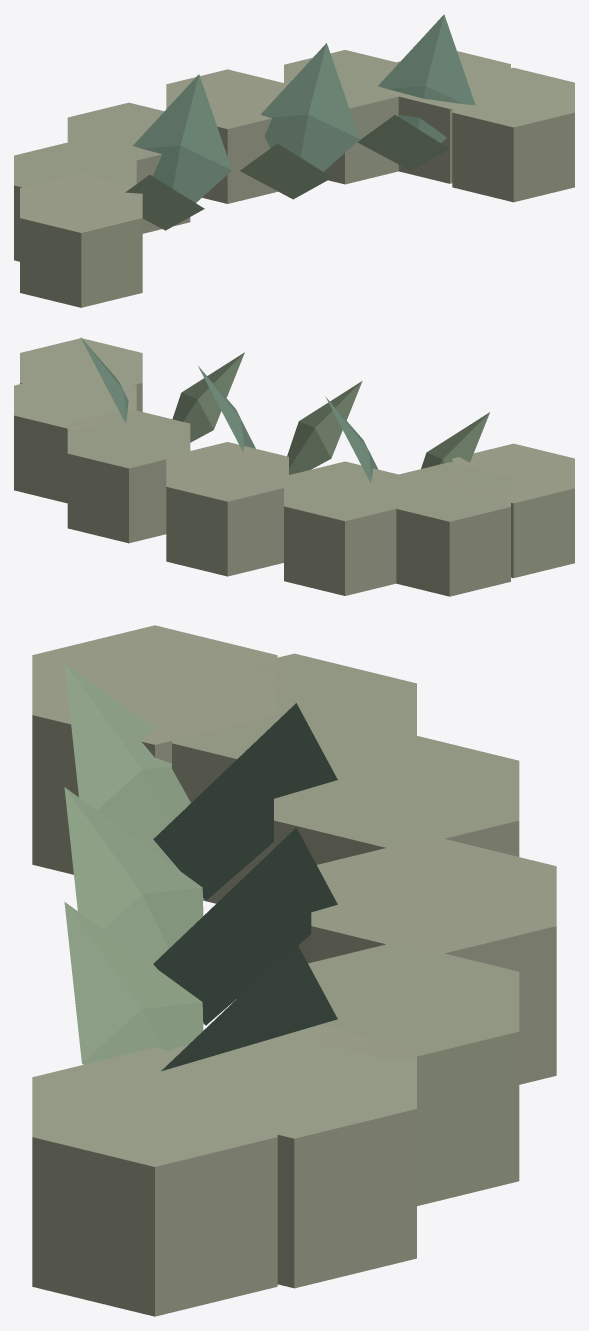
File: map-exclusive-v3__ruins_14.glb
3 views of the same model, one above another, from view 1: azimuth 30°, elevation 25°; view 2: azimuth 150°, elevation 25°; view 3: azimuth 270°, elevation 25° (orthographic). The views are drawn at different scales.
Parts seen in each view (by area): view 1: ruins_14; view 2: ruins_14; view 3: ruins_14.
Boxes of the visible parts, x1=… form: ruins_14: x1=14, y1=14, x2=574, y2=307; ruins_14: x1=14, y1=337, x2=574, y2=596; ruins_14: x1=32, y1=625, x2=556, y2=1316.
Bounding box in the file's own units: 3.26 × 0.79 × 1.33.
